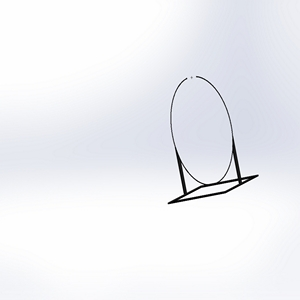circle: (166, 74, 261, 204)
